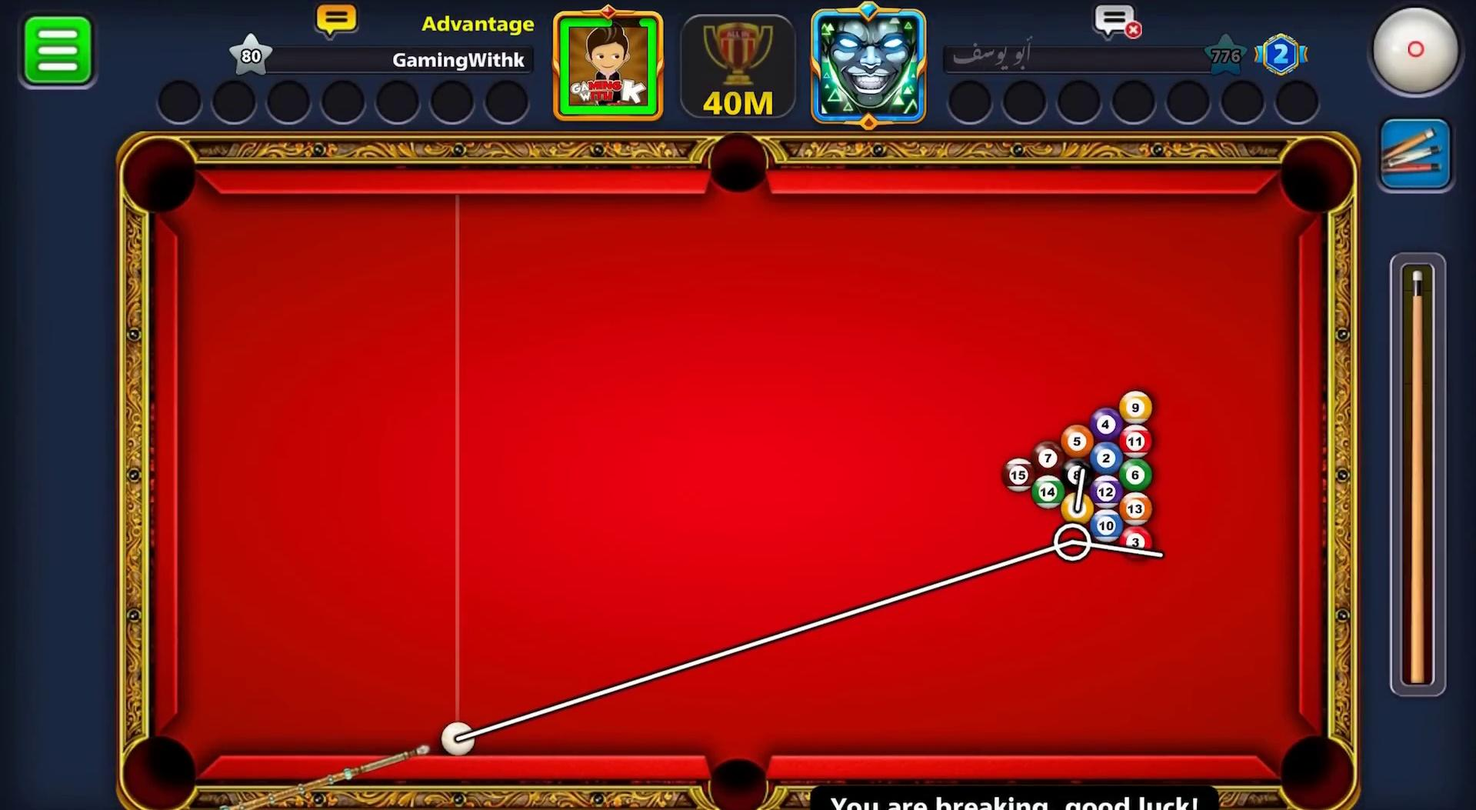Ball: (1115, 385, 1153, 425), (1086, 400, 1121, 439), (1061, 417, 1094, 458), (1118, 424, 1153, 462), (1118, 526, 1157, 560), (1033, 438, 1065, 476), (1031, 473, 1065, 508), (1090, 508, 1122, 544), (1064, 491, 1092, 531), (1120, 459, 1154, 491), (1121, 493, 1153, 526), (1062, 458, 1093, 492), (1091, 476, 1121, 510), (1002, 459, 1031, 493), (1094, 443, 1121, 476)
Force: (1391, 247, 1451, 699)
Guideline: (453, 533, 1168, 745), (1060, 524, 1097, 563), (1073, 468, 1087, 512)
Hole: (119, 121, 216, 233), (1271, 119, 1366, 228), (1261, 721, 1369, 810), (115, 715, 211, 810), (694, 729, 787, 810), (703, 119, 775, 211)
Play_Area: (178, 191, 1298, 756)
Spin: (1356, 0, 1476, 113)
White: (438, 721, 481, 755)
